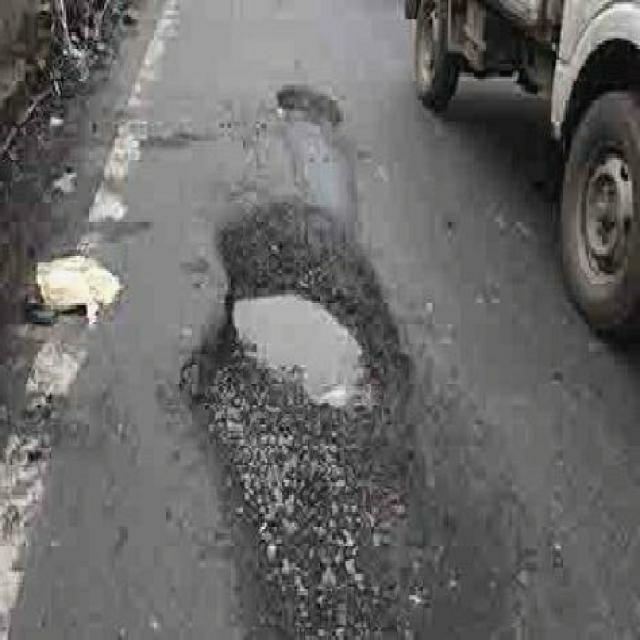Pothole: (184, 196, 415, 627), (275, 79, 343, 126)
